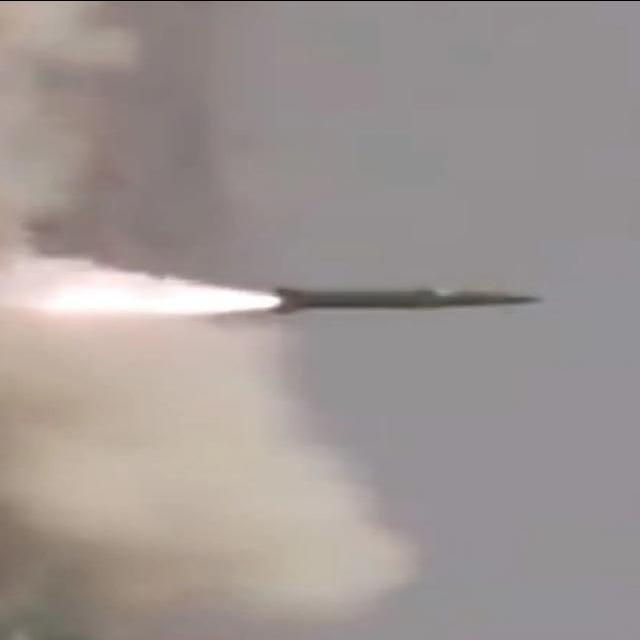missile: (245, 284, 549, 314)
